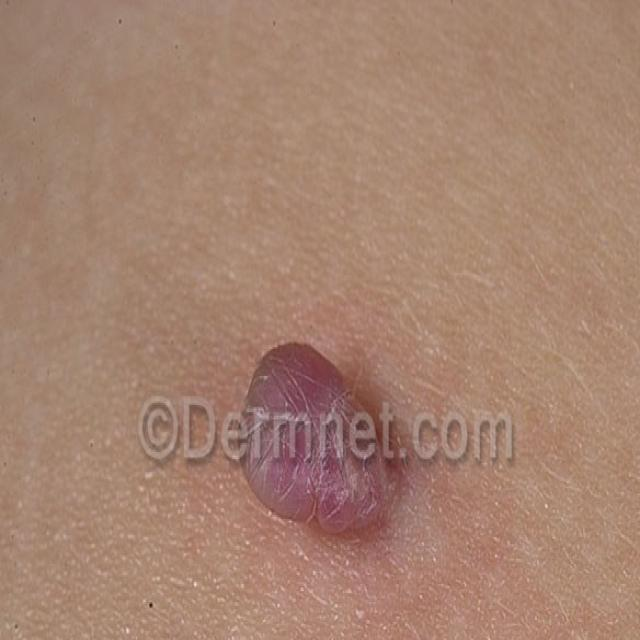Vascular Tumors: (227, 311, 423, 562)
